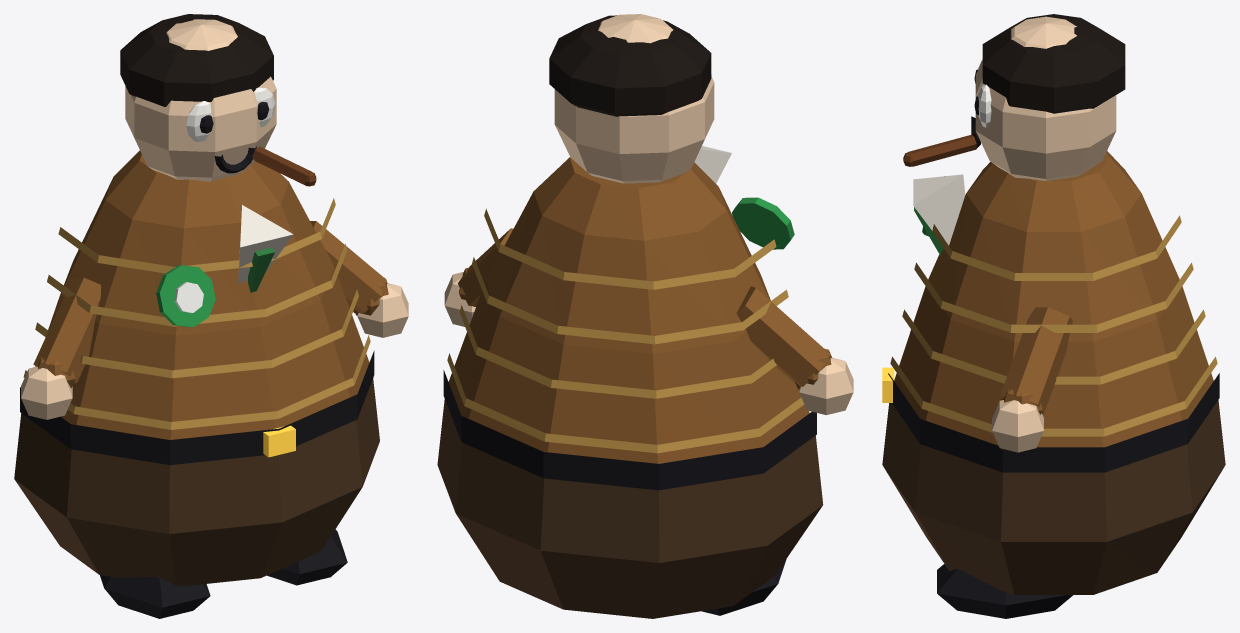
File: npc_concejal.glb
3 renders of one model, left to right at view 1: azimuth 30°, elevation 25°; view 2: azimuth 150°, elevation 25°; view 3: azimuth 270°, elevation 25°, orthographic. The views are drawn at different scales.
Parts seen in each view (by area): view 1: body_councillor_jacket, body_councillor_pants, head_skin_crema, body_councillor_check (×4), head_councillor_hair, body_black, arms_councillor_jacket, legs_black, arms_skin_crema, props_rosette_green, body_councillor_shirt, face_white (+5 smaller); view 2: body_councillor_jacket, body_councillor_pants, body_councillor_check (×4), head_councillor_hair, head_skin_crema, body_black, arms_councillor_jacket, arms_skin_crema, props_rosette_green, legs_black, body_councillor_shirt; view 3: body_councillor_jacket, body_councillor_pants, head_skin_crema, head_councillor_hair, body_councillor_check (×4), body_black, arms_councillor_jacket, legs_black, body_councillor_shirt, arms_skin_crema, props_cigar, face_white.
Boxes of the visible parts, x1,y1,x2,y2 form: body_councillor_jacket: (48, 150, 369, 439); body_councillor_pants: (14, 378, 379, 585); head_skin_crema: (125, 19, 276, 181); body_councillor_check (×4): (23, 198, 370, 429); head_councillor_hair: (120, 14, 273, 106); body_black: (20, 350, 374, 464); arms_councillor_jacket: (33, 221, 388, 388); legs_black: (100, 529, 347, 618); arms_skin_crema: (21, 283, 408, 419); props_rosette_green: (156, 265, 215, 327); body_councillor_shirt: (238, 205, 293, 283); face_white: (186, 87, 275, 141); body_councillor_jacket: (448, 157, 809, 463); body_councillor_pants: (437, 399, 823, 618); body_councillor_check (×4): (447, 208, 804, 453); head_councillor_hair: (549, 15, 711, 116); head_skin_crema: (554, 14, 714, 183); body_black: (443, 370, 816, 490); arms_councillor_jacket: (458, 228, 832, 389); arms_skin_crema: (444, 272, 853, 415); props_rosette_green: (732, 197, 794, 249); legs_black: (702, 559, 786, 615); body_councillor_shirt: (694, 146, 731, 183); body_councillor_jacket: (894, 151, 1213, 447); body_councillor_pants: (882, 400, 1225, 594); head_skin_crema: (975, 16, 1116, 180); head_councillor_hair: (982, 14, 1125, 113); body_councillor_check (×4): (890, 215, 1217, 436); body_black: (888, 373, 1219, 472); arms_councillor_jacket: (1000, 307, 1072, 414); legs_black: (937, 564, 1072, 618); body_councillor_shirt: (913, 174, 965, 245); arms_skin_crema: (992, 400, 1043, 452); props_cigar: (903, 134, 976, 166); face_white: (978, 59, 991, 127).
Bounding box in the file's own units: 1.13 × 1.53 × 0.86.
